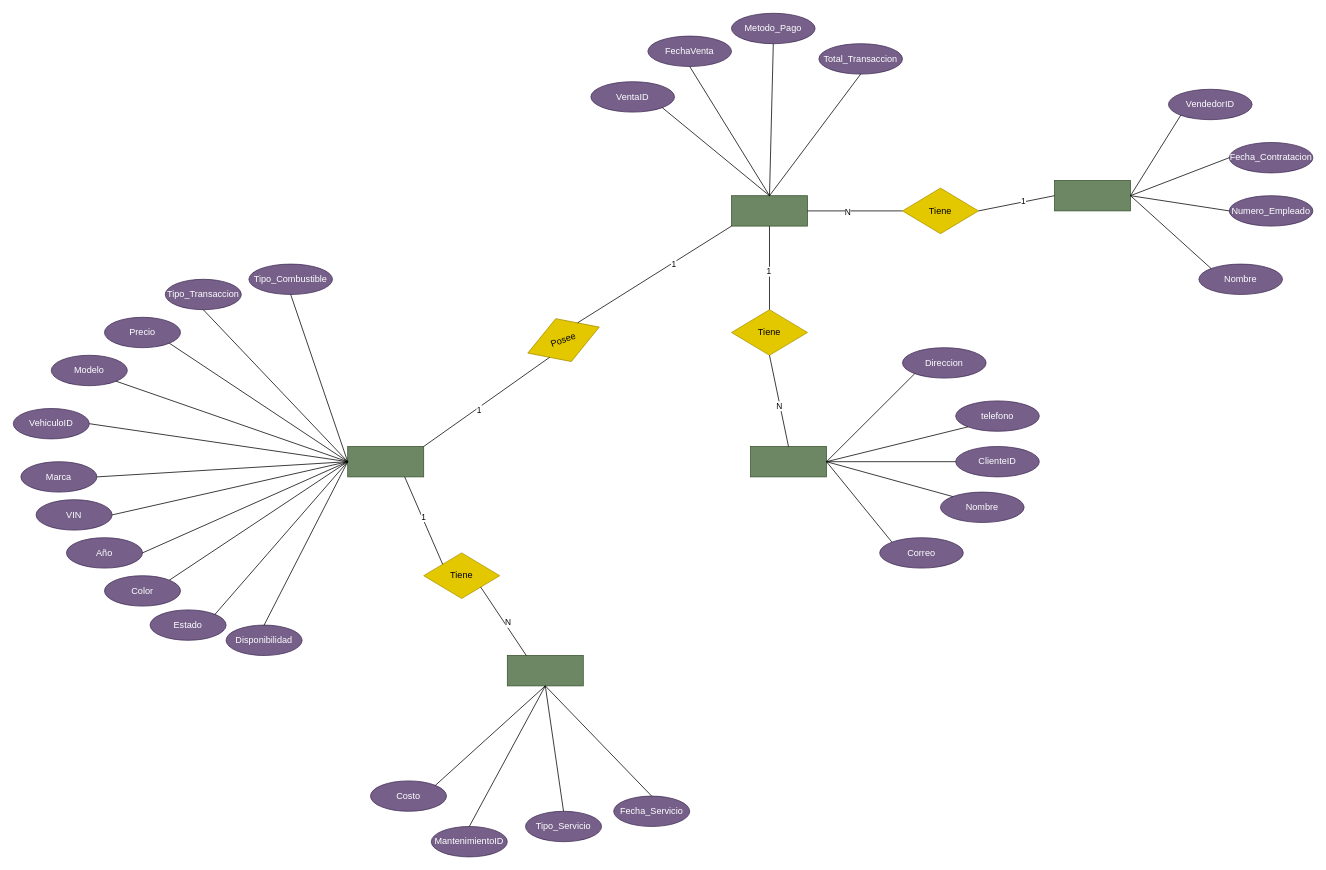
Some shapes in this 1326 by 870 pixel diagram are drawn without their labels. The centre of each missing label's shape, as x and y in pixels:
"Cliente" goes at [788,461].
"Mantenimiento" goes at [545,670].
"Vehiculo" goes at [385,461].
"Vendedor" goes at [1092,195].
"Venta" goes at [769,210].
